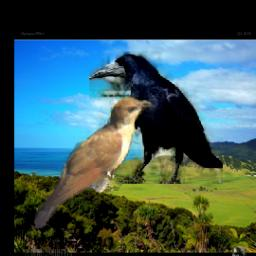Crow: (90, 51, 224, 184)
Cuckoo: (35, 96, 151, 228)
